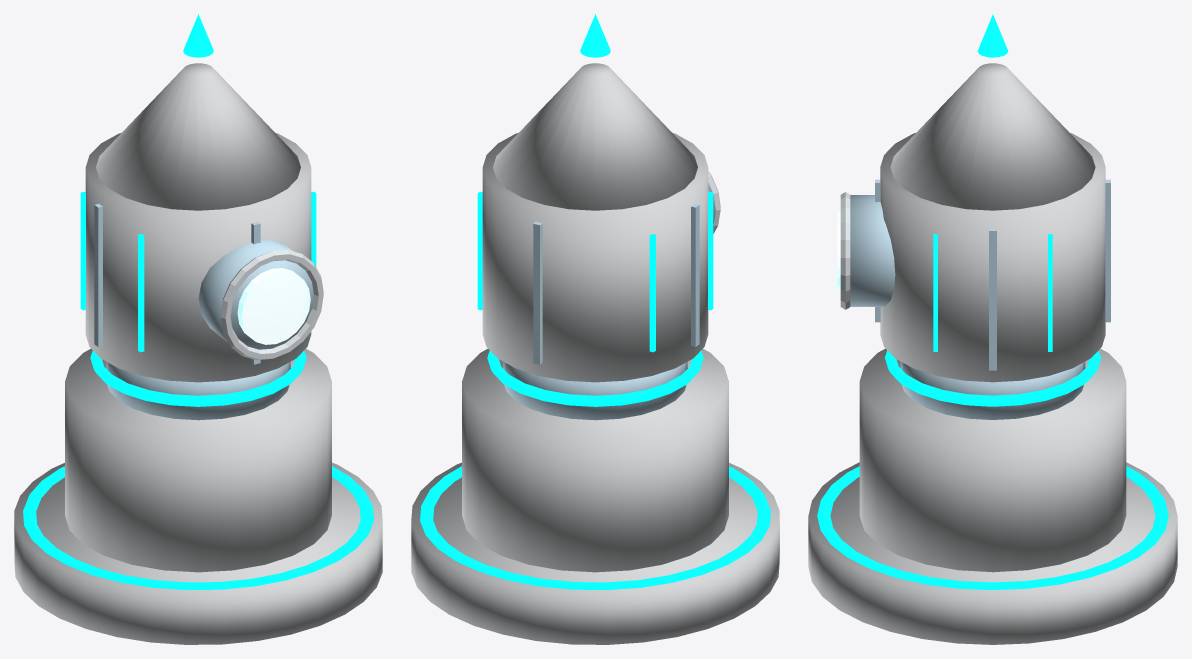
Rendered from azure_pulse_precision_laser_turret.glb.
3 renders of one model, left to right at view 1: azimuth 30°, elevation 25°; view 2: azimuth 150°, elevation 25°; view 3: azimuth 270°, elevation 25°, orthographic.
Visible parts, largest first — view 1: AZU_lower_body, AZU_base, AZU_upper_body, AZU_top_cap, AZU_base_ring, AZU_waist, AZU_lens_aperture, AZU_lens_housing, AZU_lens_ring, AZU_waist_ring, AZU_accent_270, AZU_vein_240 (+2 smaller); view 2: AZU_lower_body, AZU_upper_body, AZU_base, AZU_top_cap, AZU_base_ring, AZU_waist, AZU_waist_ring, AZU_accent_0, AZU_accent_270, AZU_vein_300, AZU_top_tip, AZU_vein_60 (+1 smaller); view 3: AZU_lower_body, AZU_upper_body, AZU_base, AZU_top_cap, AZU_base_ring, AZU_waist, AZU_lens_housing, AZU_waist_ring, AZU_lens_ring, AZU_accent_90, AZU_accent_0, AZU_top_tip (+2 smaller).
Boxes of the visible parts, x1=… form: AZU_lower_body: x1=65, y1=349, x2=331, y2=572; AZU_base: x1=14, y1=462, x2=382, y2=644; AZU_upper_body: x1=85, y1=133, x2=311, y2=382; AZU_top_cap: x1=96, y1=63, x2=300, y2=210; AZU_base_ring: x1=23, y1=466, x2=373, y2=590; AZU_waist: x1=106, y1=362, x2=290, y2=420; AZU_lens_aperture: x1=237, y1=268, x2=310, y2=344; AZU_lens_housing: x1=198, y1=239, x2=313, y2=349; AZU_lens_ring: x1=220, y1=250, x2=323, y2=359; AZU_waist_ring: x1=90, y1=350, x2=306, y2=406; AZU_accent_270: x1=94, y1=204, x2=102, y2=346; AZU_vein_240: x1=138, y1=234, x2=144, y2=352; AZU_lower_body: x1=462, y1=349, x2=728, y2=572; AZU_upper_body: x1=482, y1=133, x2=708, y2=382; AZU_base: x1=411, y1=462, x2=779, y2=644; AZU_top_cap: x1=493, y1=63, x2=697, y2=210; AZU_base_ring: x1=420, y1=466, x2=770, y2=590; AZU_waist: x1=503, y1=362, x2=687, y2=420; AZU_waist_ring: x1=487, y1=350, x2=703, y2=406; AZU_accent_0: x1=533, y1=221, x2=542, y2=364; AZU_accent_270: x1=691, y1=204, x2=699, y2=346; AZU_vein_300: x1=649, y1=234, x2=655, y2=352; AZU_top_tip: x1=580, y1=14, x2=610, y2=57; AZU_vein_60: x1=477, y1=191, x2=482, y2=310; AZU_lower_body: x1=859, y1=348, x2=1126, y2=572; AZU_upper_body: x1=880, y1=133, x2=1105, y2=382; AZU_base: x1=808, y1=462, x2=1177, y2=644; AZU_top_cap: x1=890, y1=63, x2=1095, y2=210; AZU_base_ring: x1=817, y1=466, x2=1168, y2=589; AZU_waist: x1=900, y1=362, x2=1085, y2=419; AZU_lens_housing: x1=850, y1=195, x2=895, y2=306; AZU_waist_ring: x1=885, y1=350, x2=1100, y2=406; AZU_lens_ring: x1=840, y1=192, x2=850, y2=309; AZU_accent_90: x1=989, y1=228, x2=996, y2=370; AZU_accent_0: x1=1105, y1=179, x2=1110, y2=322; AZU_top_tip: x1=977, y1=14, x2=1008, y2=57.
Size of the model in its own units: 1.44 by 2.38 by 1.44.
